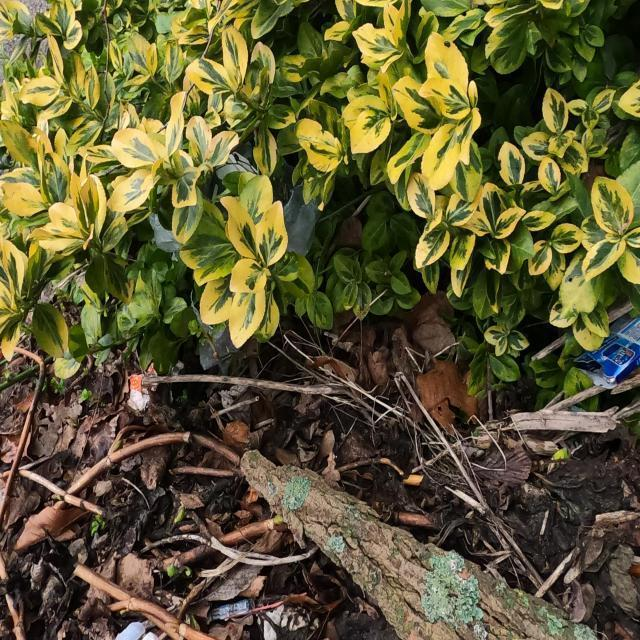Plastic: (573, 315, 640, 390), (126, 360, 160, 416), (207, 598, 250, 621)
